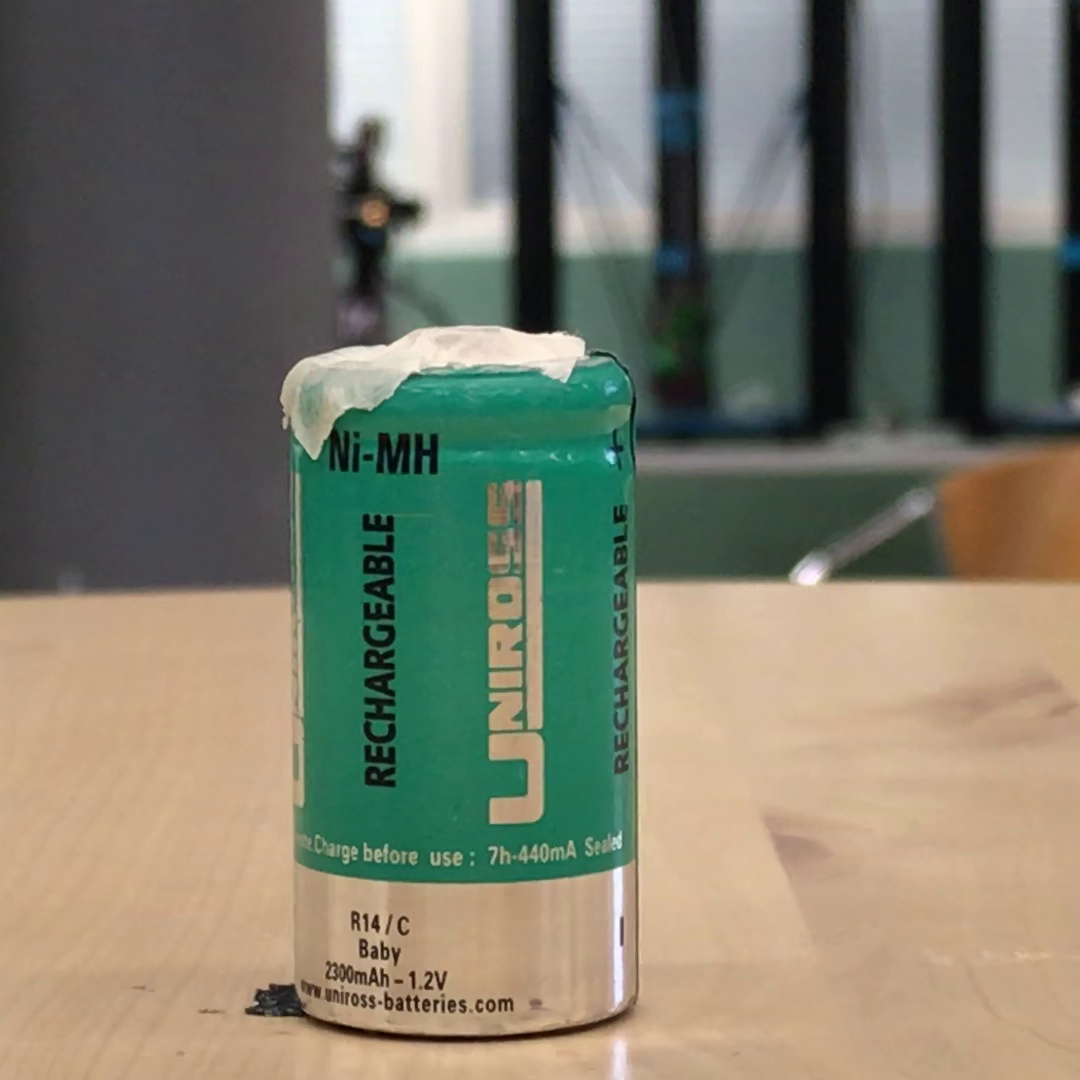keyword: (393, 961, 457, 994)
